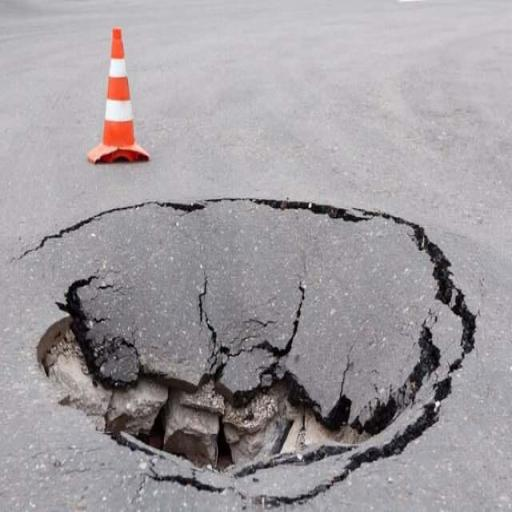Concentric_Crack: (23, 198, 476, 505)
